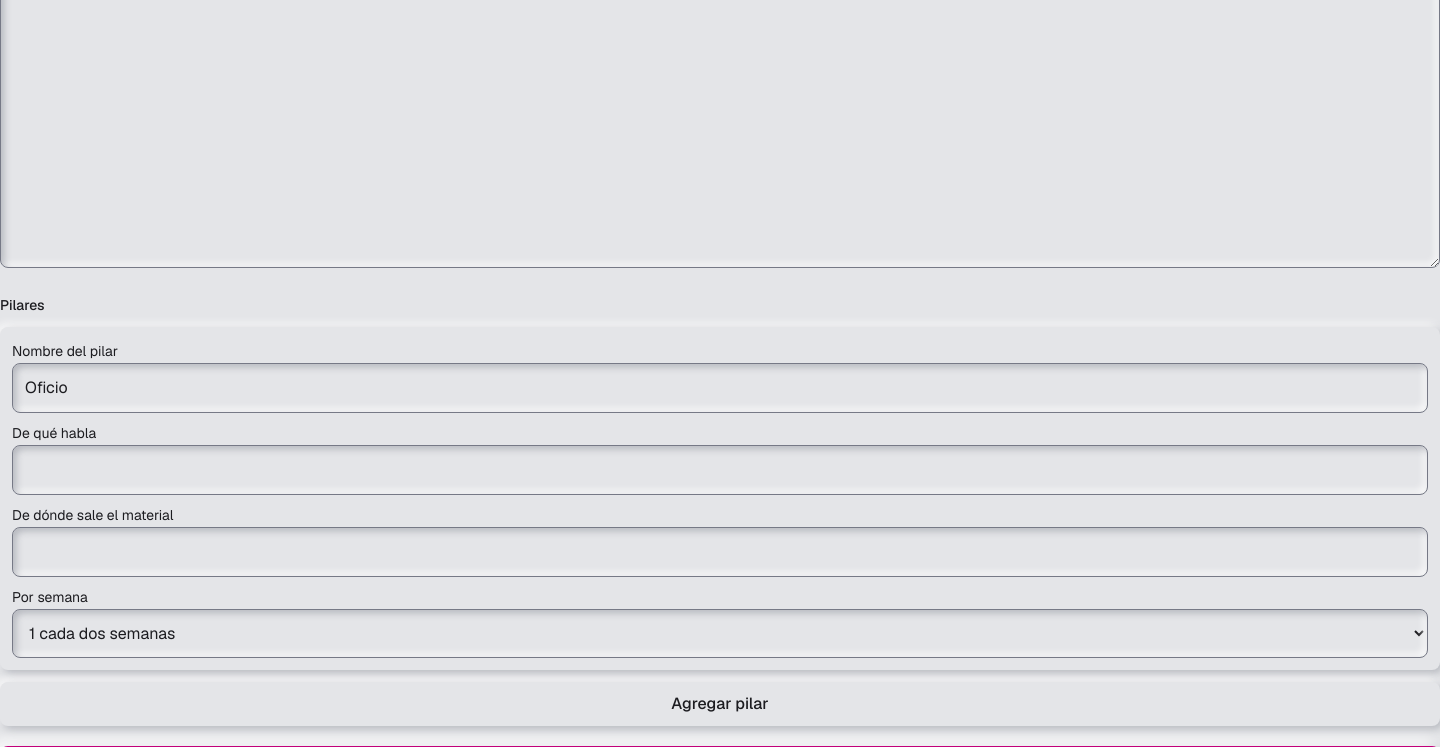
it: EditorDeLinea › a pillar can be removed but never the last one
(page scrolled)
Check: the button "Quitar Oficio" is not shown
Click the button "Agregar pilar".
click(720, 704)  # box [0,682,1439,726]
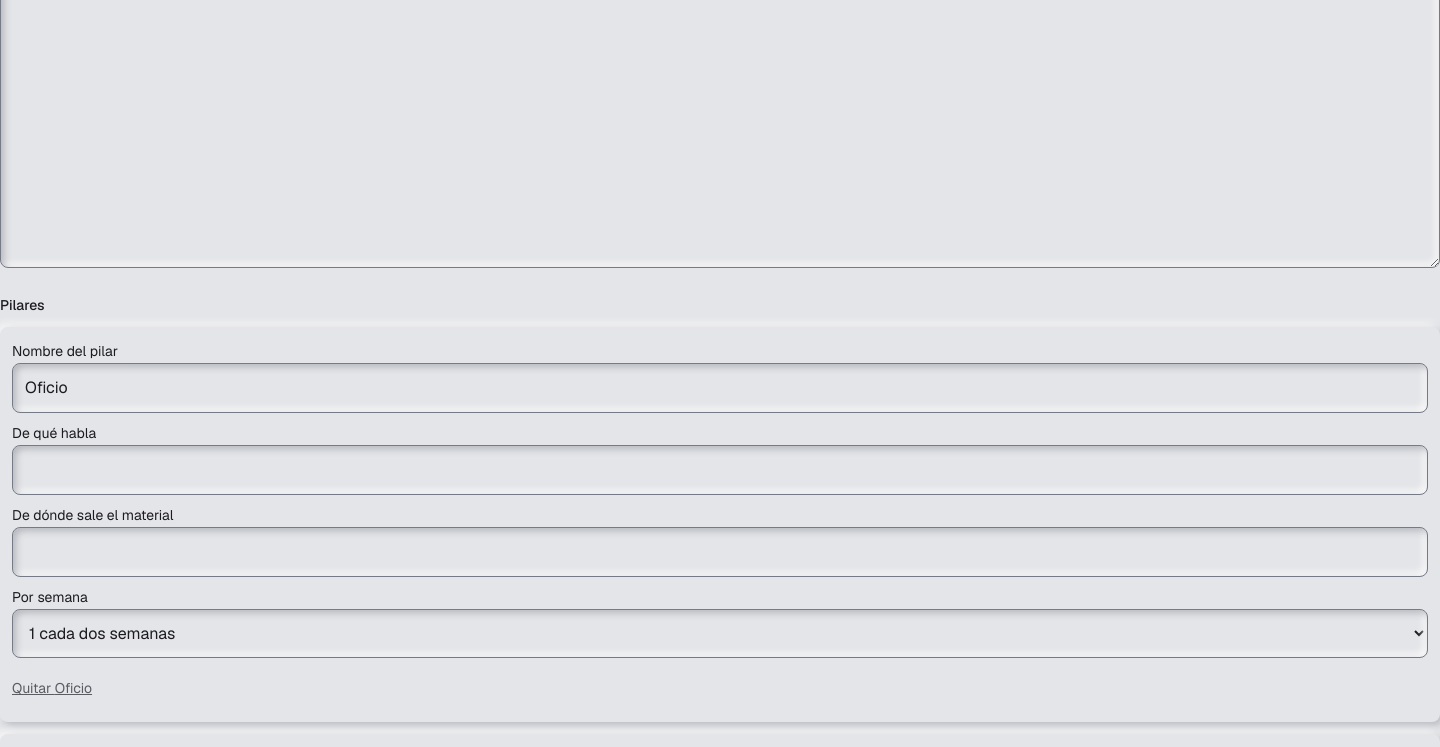
Click the button "Quitar Oficio".
click(52, 688)  # box [12,666,92,710]
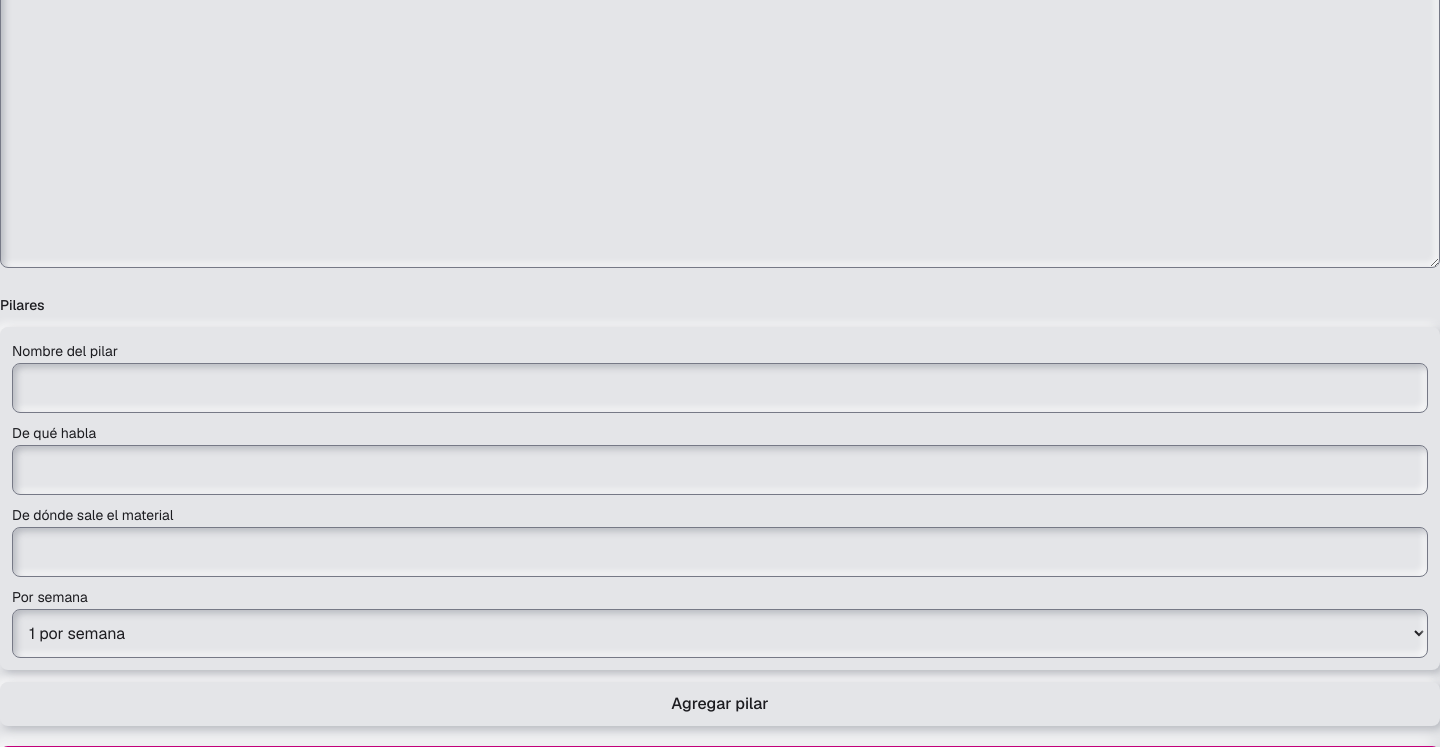
Check: the number of fields labelled "Nombre del pilar" is 1, box [12,363,1428,413]
